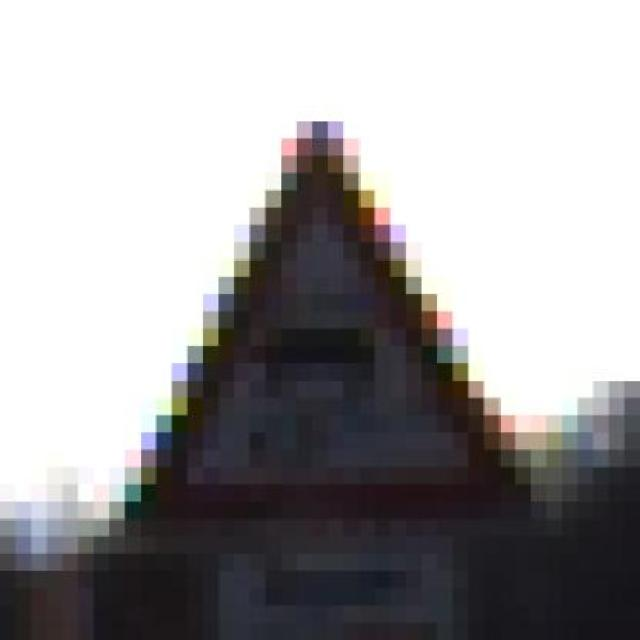Slippery Road Ahead: (93, 86, 562, 554)
